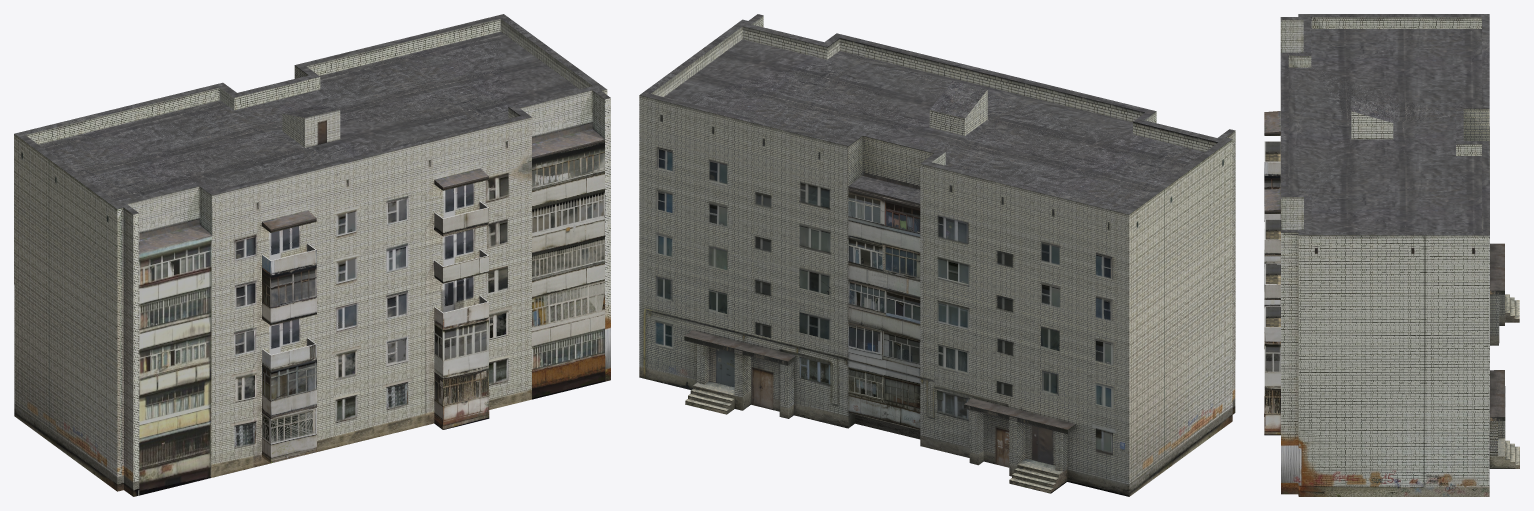
File: 5_storey_residential_building.glb
3 renders of one model, left to right at view 1: azimuth 30°, elevation 25°; view 2: azimuth 150°, elevation 25°; view 3: azimuth 270°, elevation 25°, orthographic. The views are drawn at different scales.
Visible parts, largest first — view 1: 5tietazhka2_0; view 2: 5tietazhka2_0; view 3: 5tietazhka2_0.
Part boxes in pixels (left/top/right/bottom): 5tietazhka2_0: left=14, top=14, right=610, bottom=496; 5tietazhka2_0: left=639, top=14, right=1235, bottom=496; 5tietazhka2_0: left=1264, top=14, right=1519, bottom=496.
Bounding box in the file's own units: 32.05 × 18.76 × 15.64.
4 materials, 4 textured.
